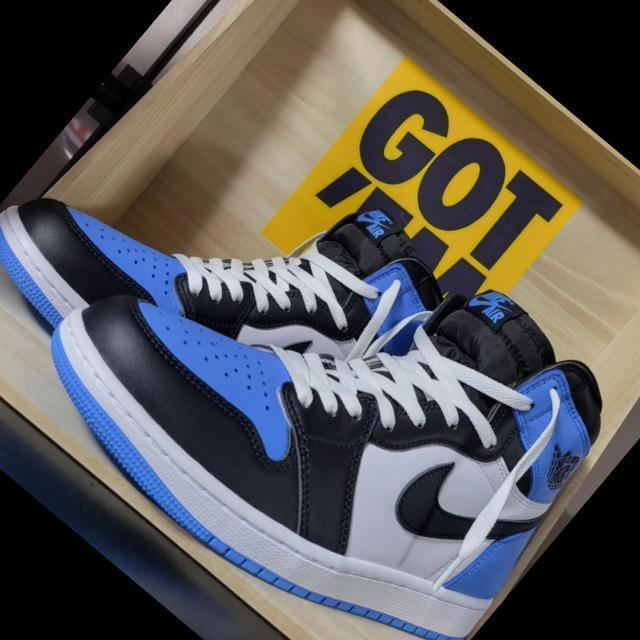nike original jordan 1: (25, 104, 640, 640), (0, 20, 480, 515)
